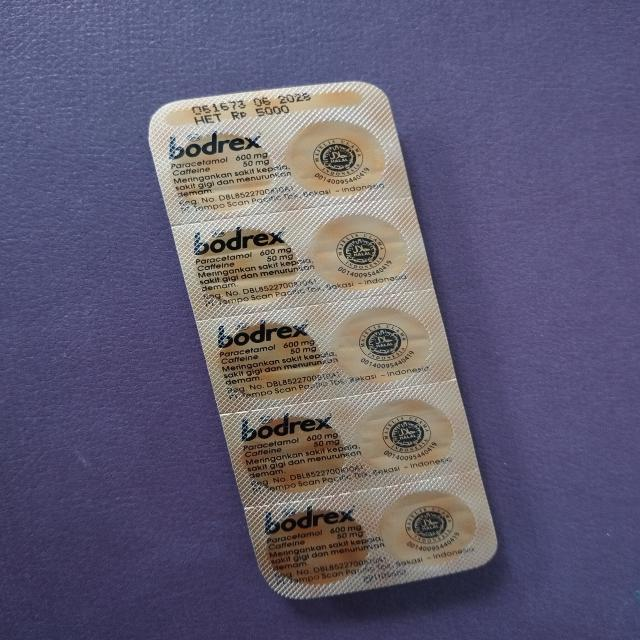B3: (146, 82, 496, 601)
